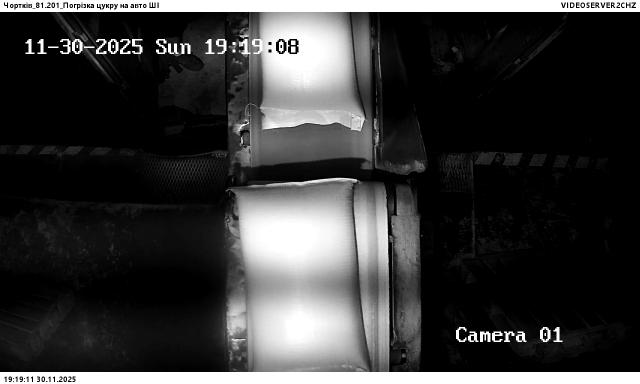bag: (229, 179, 374, 371), (261, 12, 364, 131)
